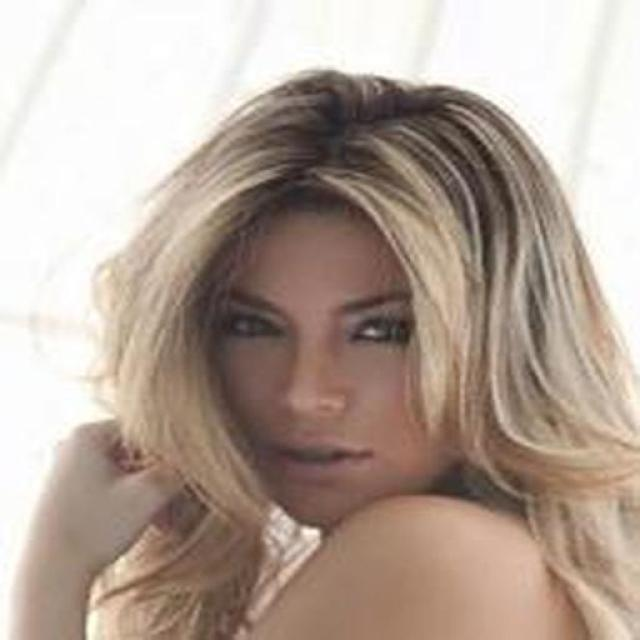bareface: (178, 138, 536, 502)
